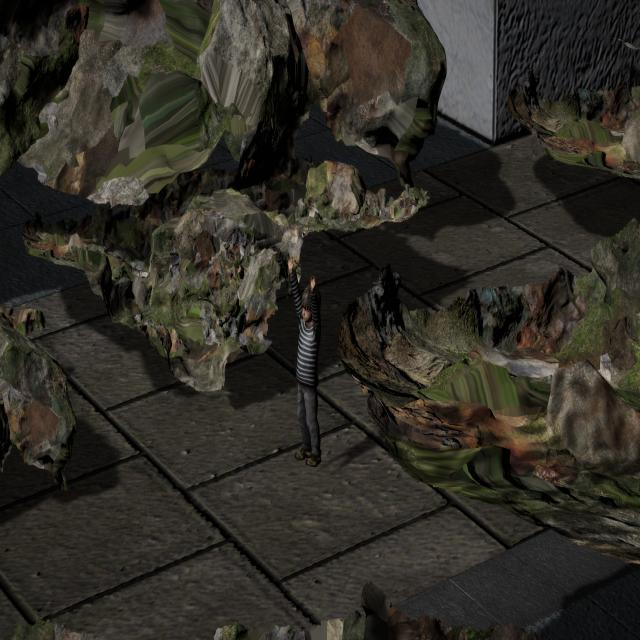Human: (282, 253, 331, 483)
